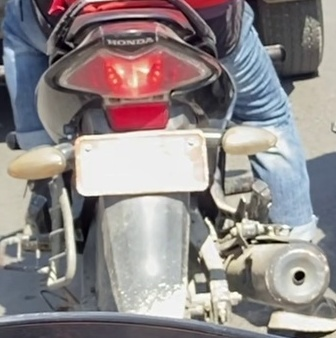license_plate: (74, 130, 209, 198)
